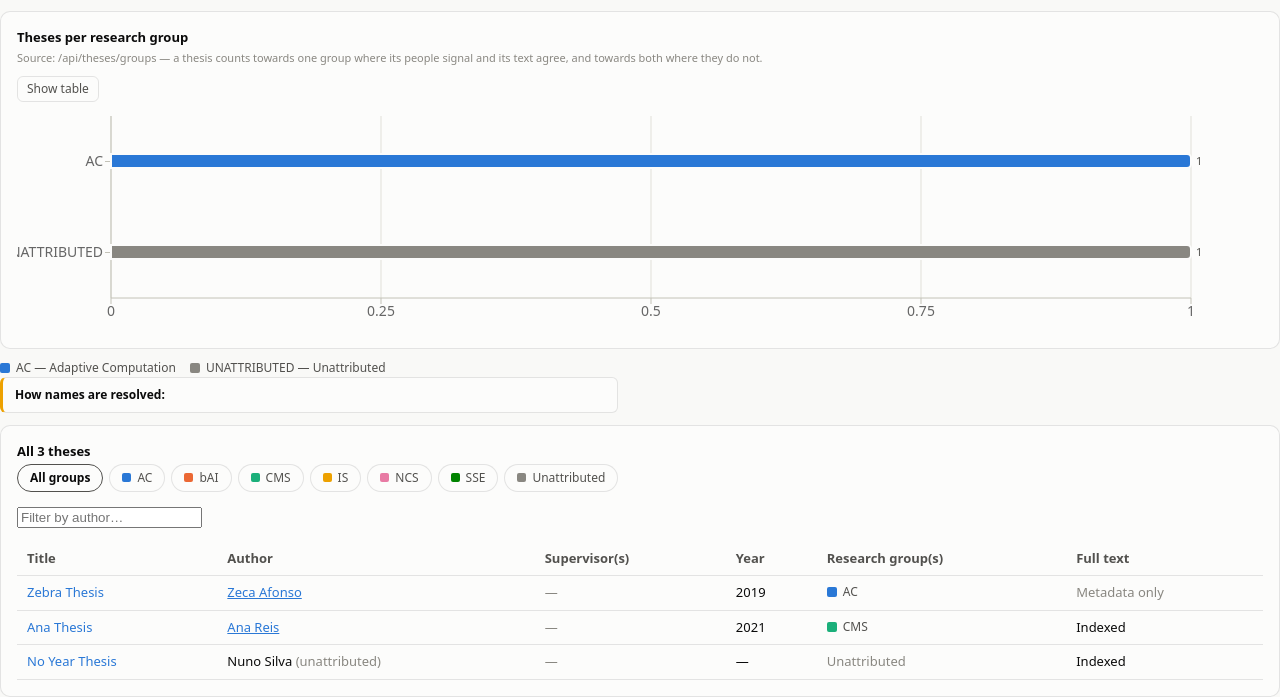
it: Theses table — author filter › filters by an author picked from the dropdown, removable via its chip
(page scrolled)
Expected: the text "All 3 theses" is shown, [17,442,91,460]
Type "ana" into the dropdown with placeholder "Filter by author…" at (110, 517), box [17,507,202,528]
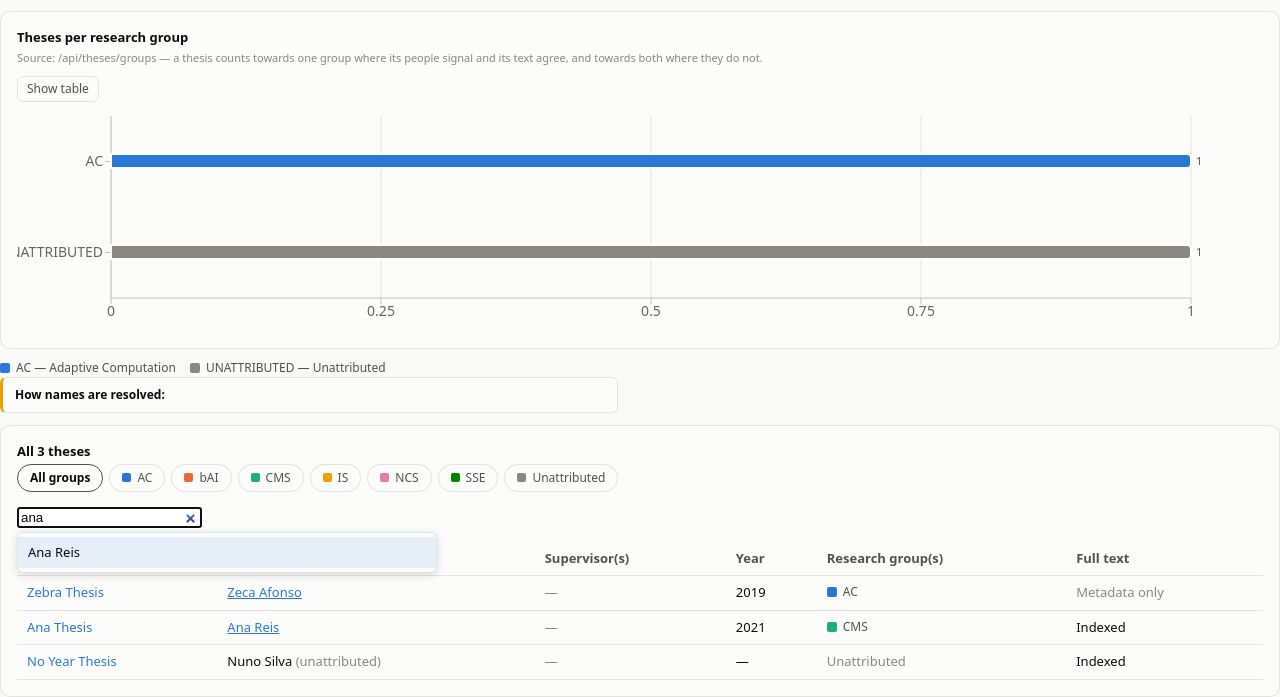
Click the option "Ana Reis" at (54, 552), box [18,537,436,568]
(page scrolled)
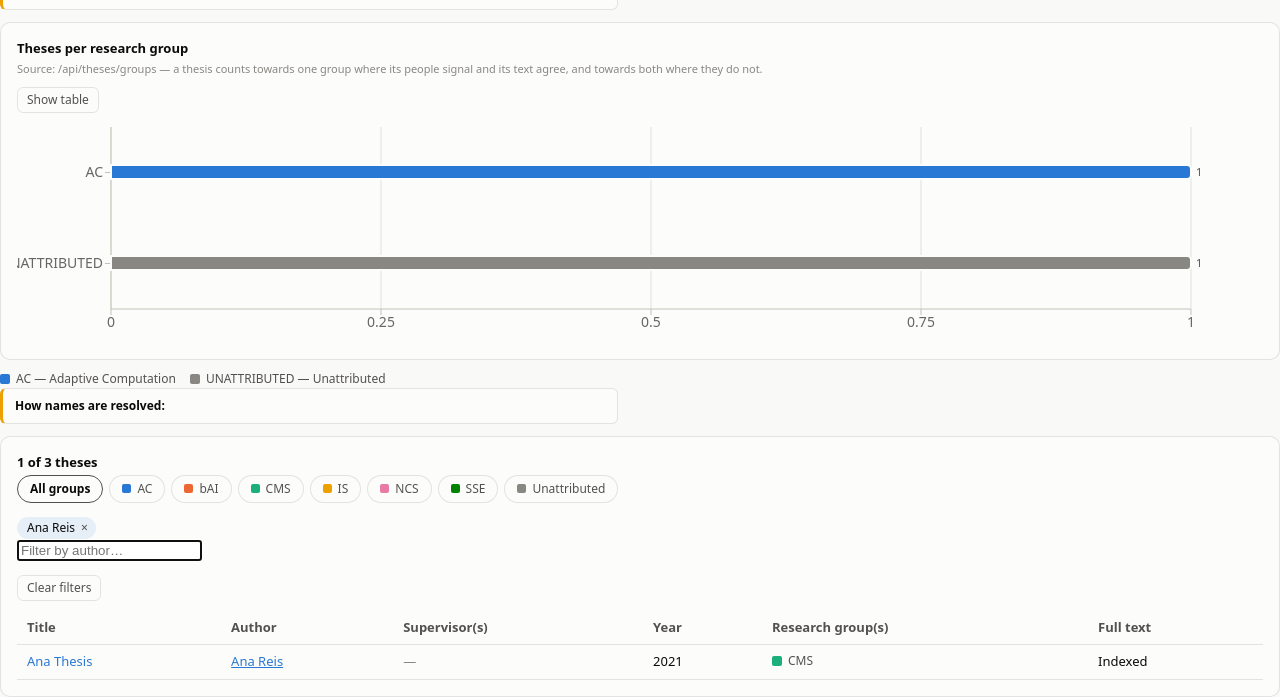
Expected: the text "1 of 3 theses" is shown, [17,453,98,471]
Click the button named "Remove Ana Reis" at (84, 528), box [79,522,90,534]
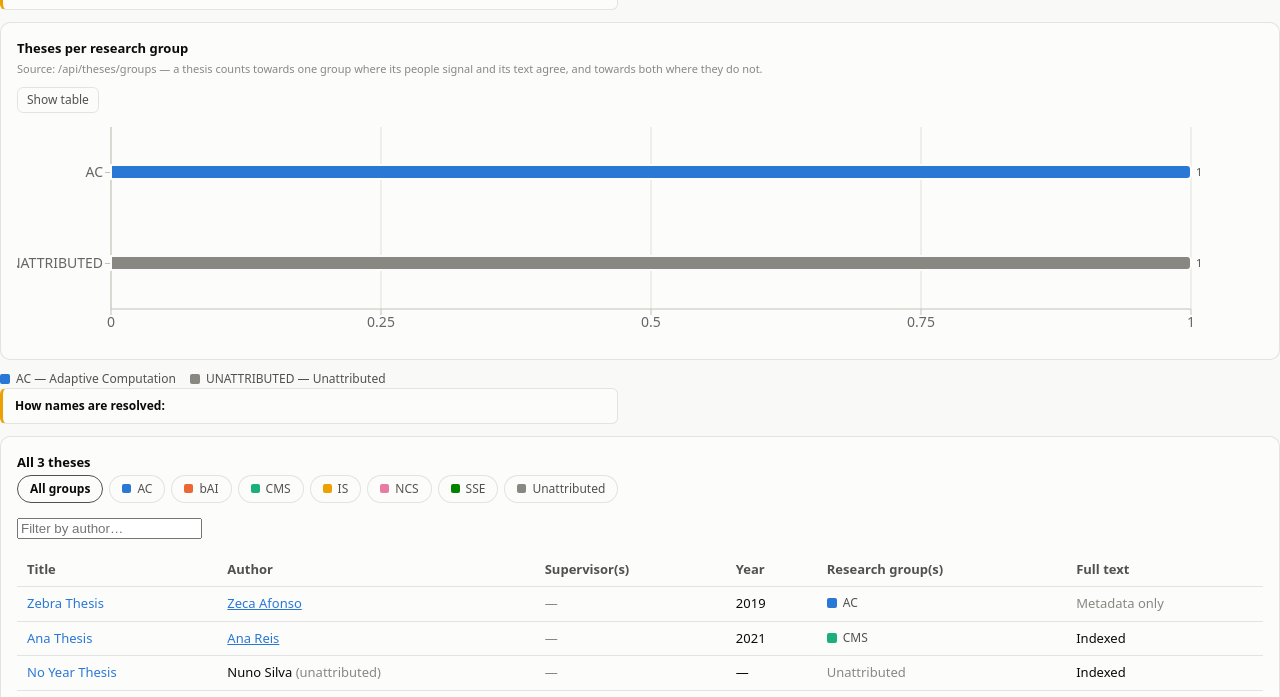
Expected: the text "All 3 theses" is shown, [17,453,91,471]
